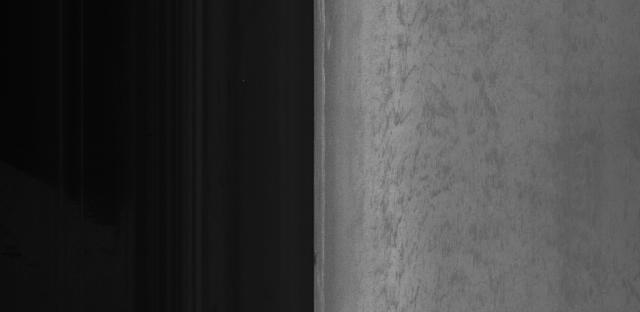silk_spot: (358, 21, 438, 290)
